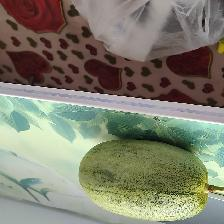gua: (83, 142, 213, 219)
